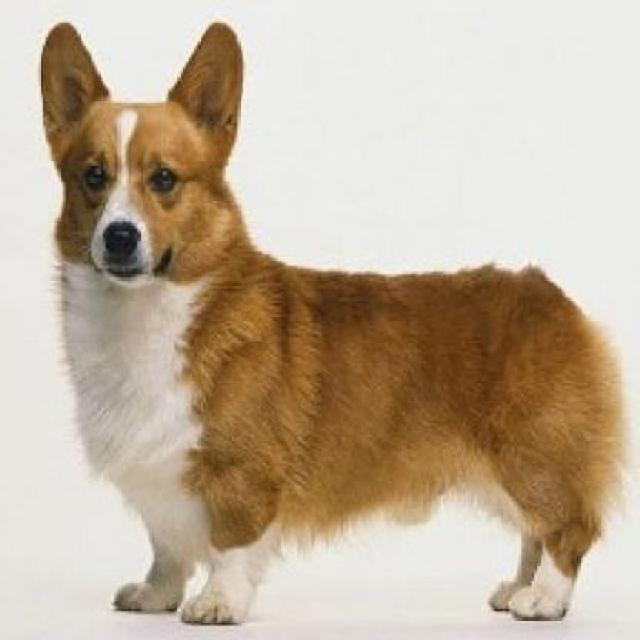Dog: (38, 22, 632, 626)
